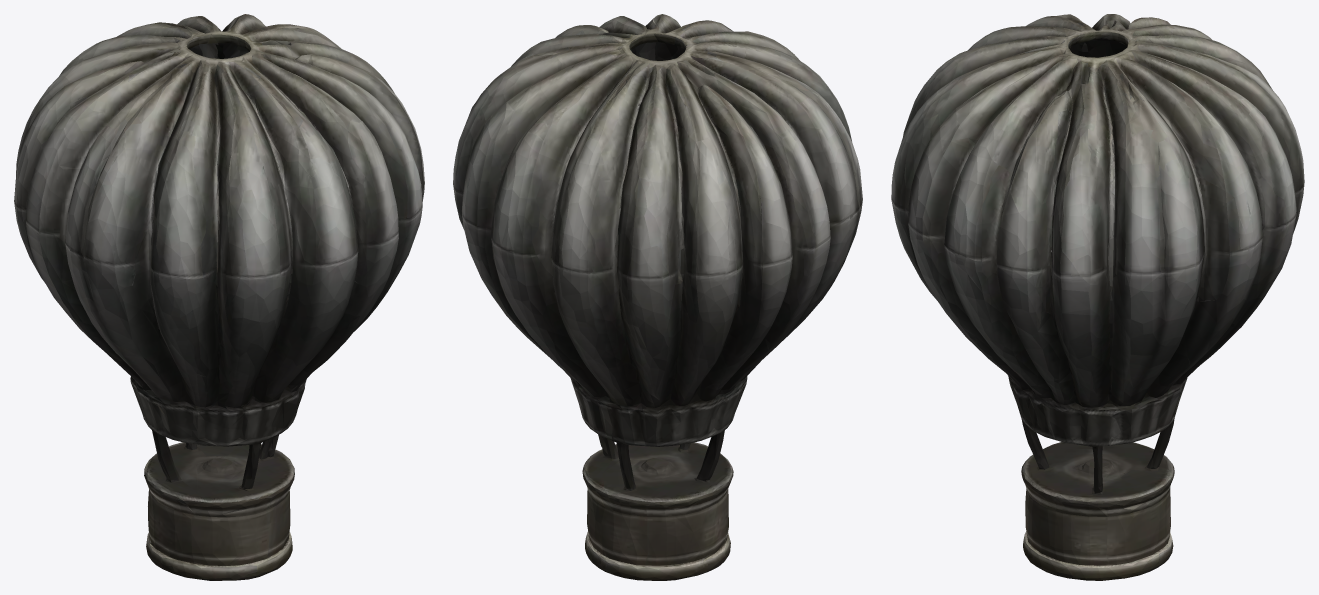
The model's file is hot-air-balloon.glb.
3 renders of one model, left to right at view 1: azimuth 30°, elevation 25°; view 2: azimuth 150°, elevation 25°; view 3: azimuth 270°, elevation 25°, orthographic.
Parts seen in each view (by area): view 1: world; view 2: world; view 3: world.
Part boxes in pixels (x1,y1,x2,y2): world: (14, 14, 424, 580); world: (453, 14, 862, 580); world: (891, 14, 1304, 580).
Size of the model in its own units: 0.7301 by 0.9972 by 0.7364.
Materials: 1 (1 with a texture image).
